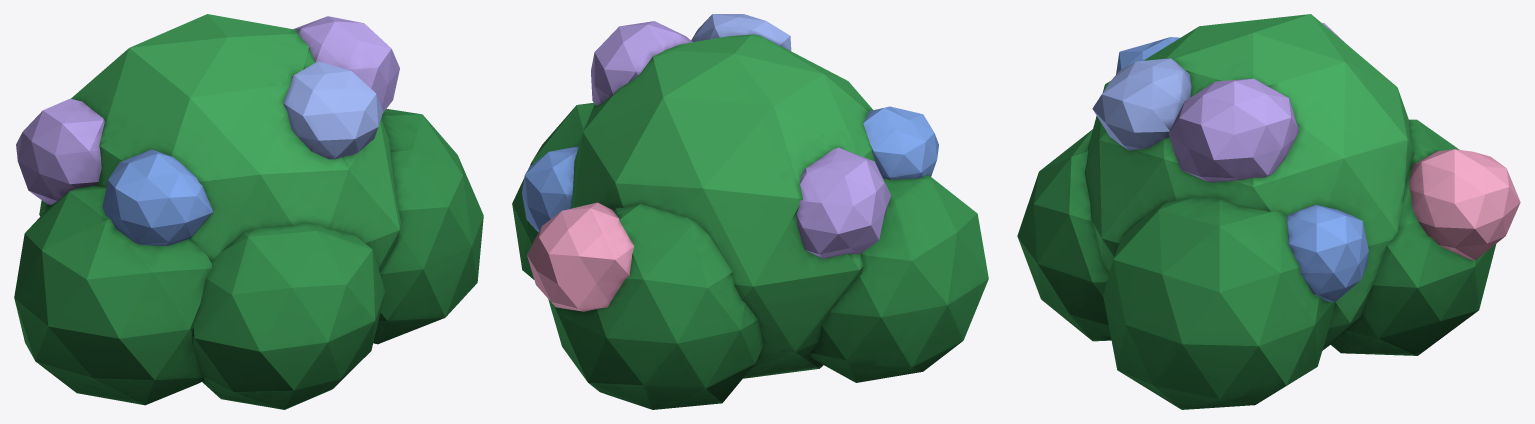
The model's file is hydrangea_bush.glb.
3 renders of one model, left to right at view 1: azimuth 30°, elevation 25°; view 2: azimuth 150°, elevation 25°; view 3: azimuth 270°, elevation 25°, orthographic. The views are drawn at different scales.
Parts seen in each view (by area): view 1: hydrangea_bush; view 2: hydrangea_bush; view 3: hydrangea_bush.
Part boxes in pixels (<box>): hydrangea_bush: <box>14,14,483,409</box>; hydrangea_bush: <box>512,14,988,409</box>; hydrangea_bush: <box>1017,14,1520,409</box>.
Size of the model in its own units: 1.22 by 0.799 by 1.2.
Materials: 6 (6 with a texture image).
